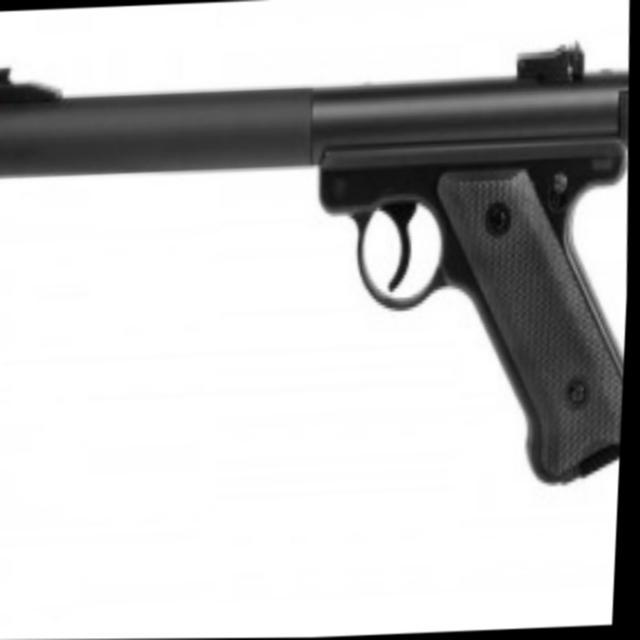weapon: (0, 32, 639, 505)
